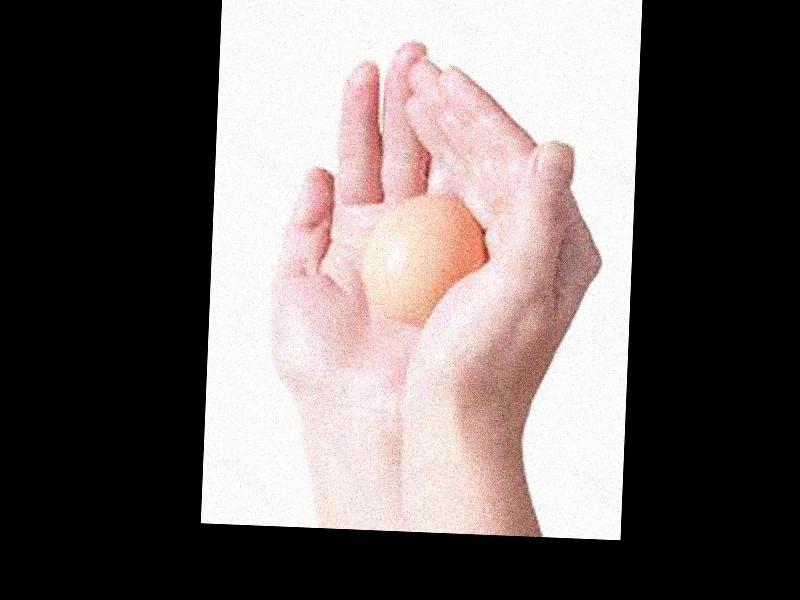Eggs: (365, 193, 485, 320)
